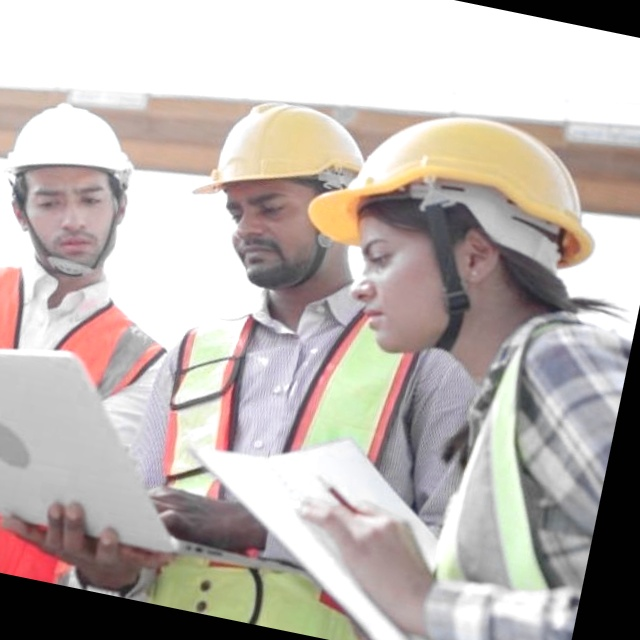Con_Casco: (281, 86, 610, 389), (177, 80, 367, 311), (0, 92, 148, 284)
Con_Chaleco: (0, 247, 170, 595)
